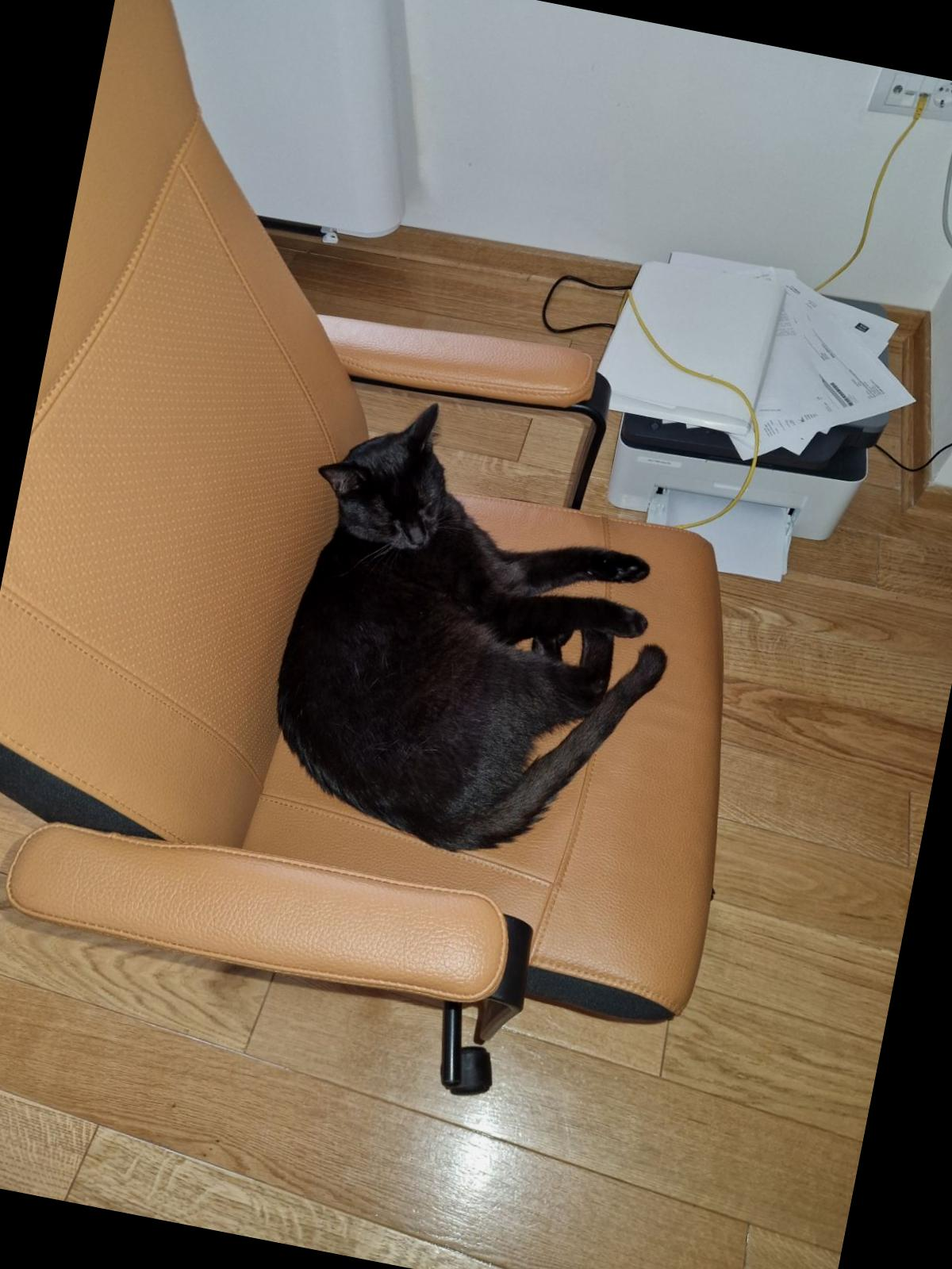macka: (249, 379, 711, 885)
